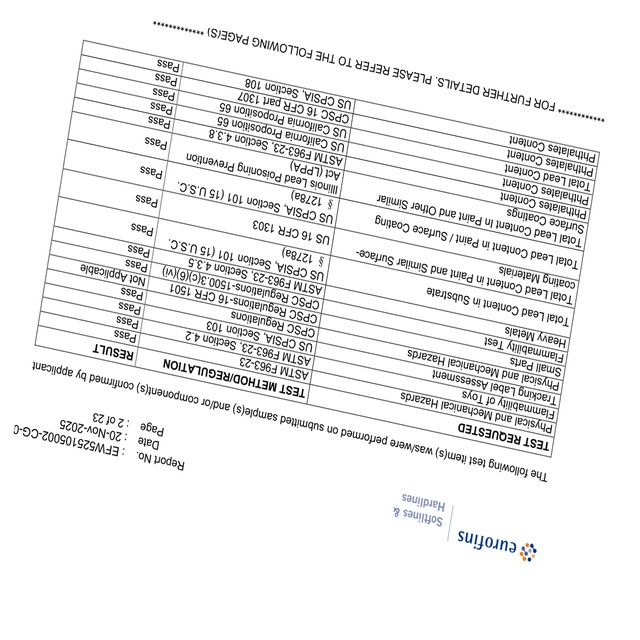eurofins: (453, 525, 541, 570)
